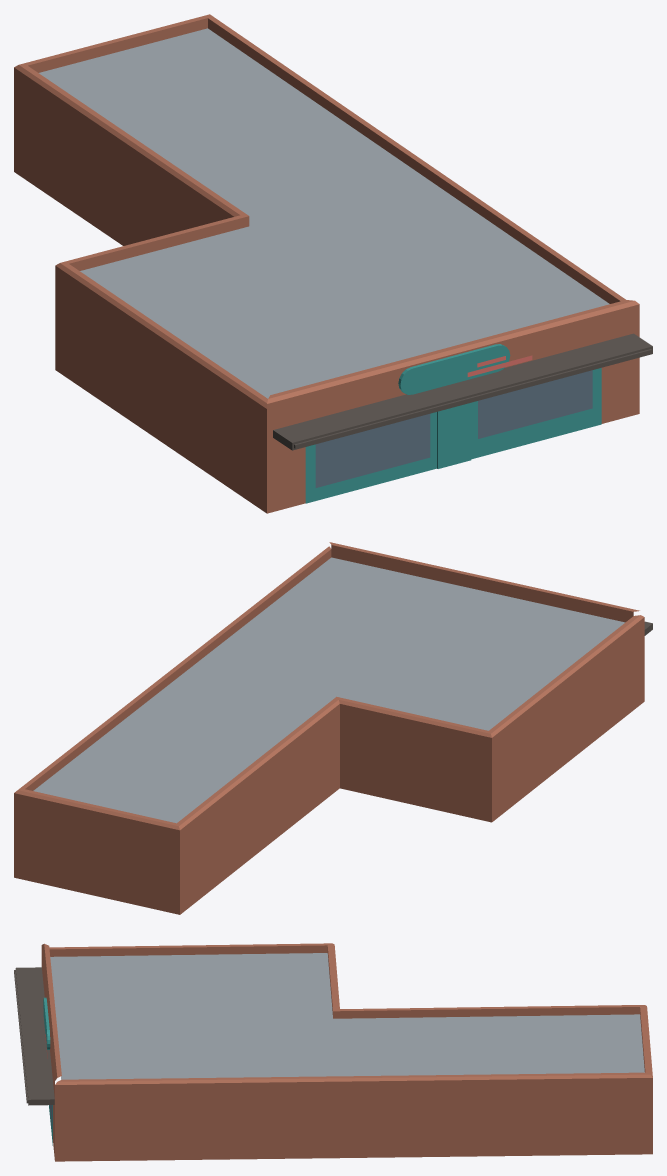
Rendered from detail.glb.
The picture shows the model from 3 angles, top to bottom: view 1: azimuth 30°, elevation 25°; view 2: azimuth 150°, elevation 25°; view 3: azimuth 270°, elevation 25°; orthographic projection. The views are drawn at different scales.
Visible parts, largest first — view 1: petras-charlotte; view 2: petras-charlotte; view 3: petras-charlotte.
Part boxes in pixels (x1,y1,x2,y2): petras-charlotte: [14, 14, 652, 513]; petras-charlotte: [14, 542, 652, 914]; petras-charlotte: [14, 943, 652, 1161].
Bounding box in the file's own units: 16.07 × 4.4 × 30.88.
